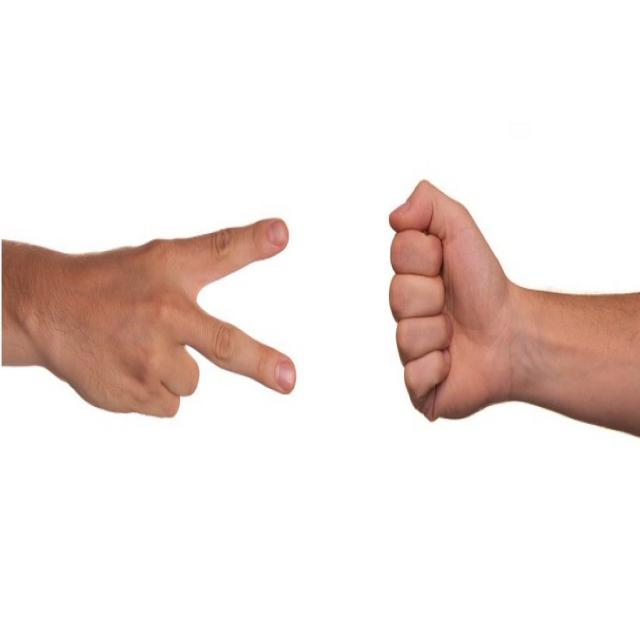rock: (382, 148, 534, 504)
scirssors: (50, 169, 321, 504)
